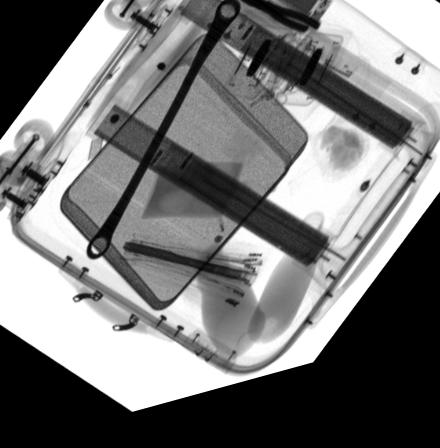Pliers: (228, 0, 321, 50)
Powerbank: (254, 0, 333, 42)
Wrench: (84, 8, 243, 265)
